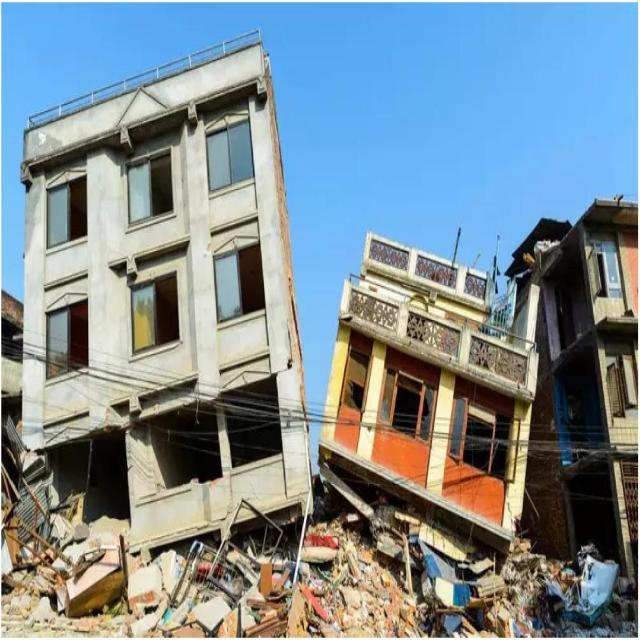damage: (2, 460, 560, 632)
